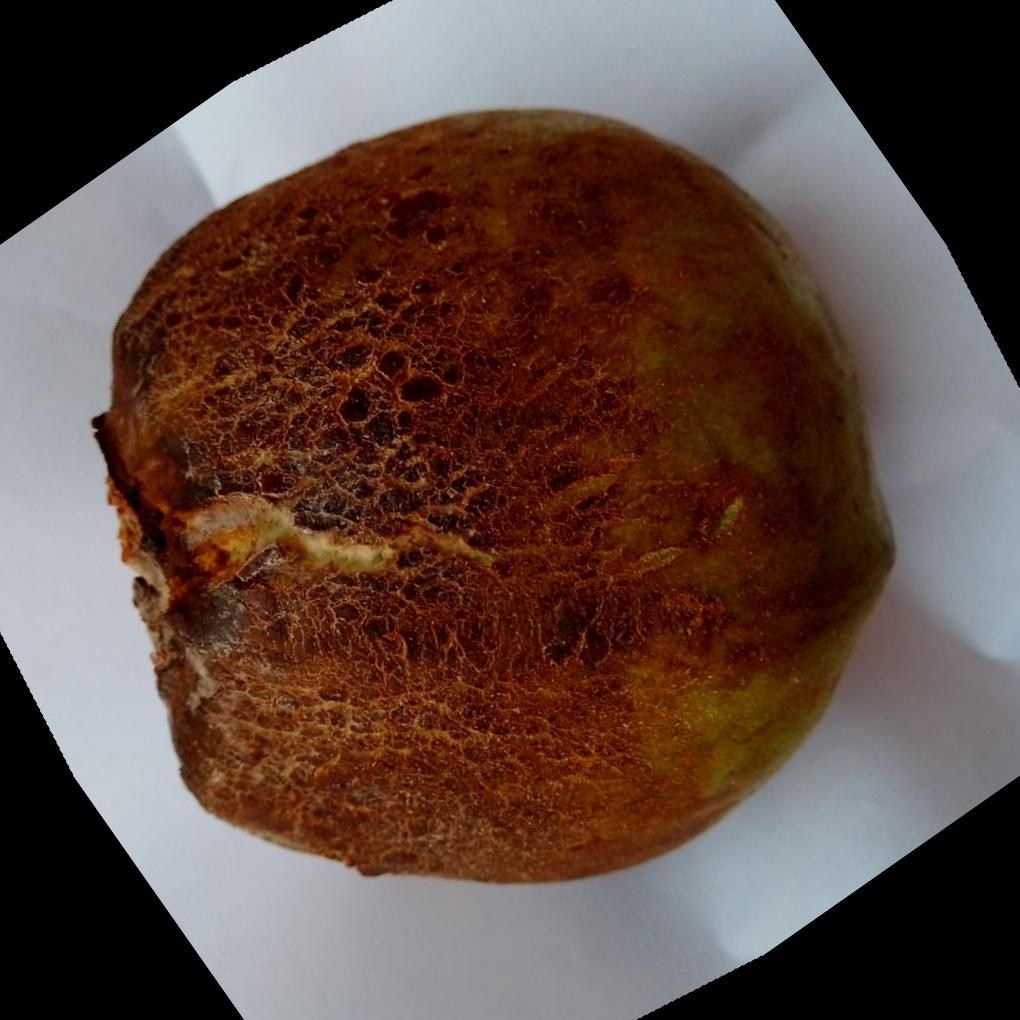FreshOrange: (91, 108, 901, 891)
